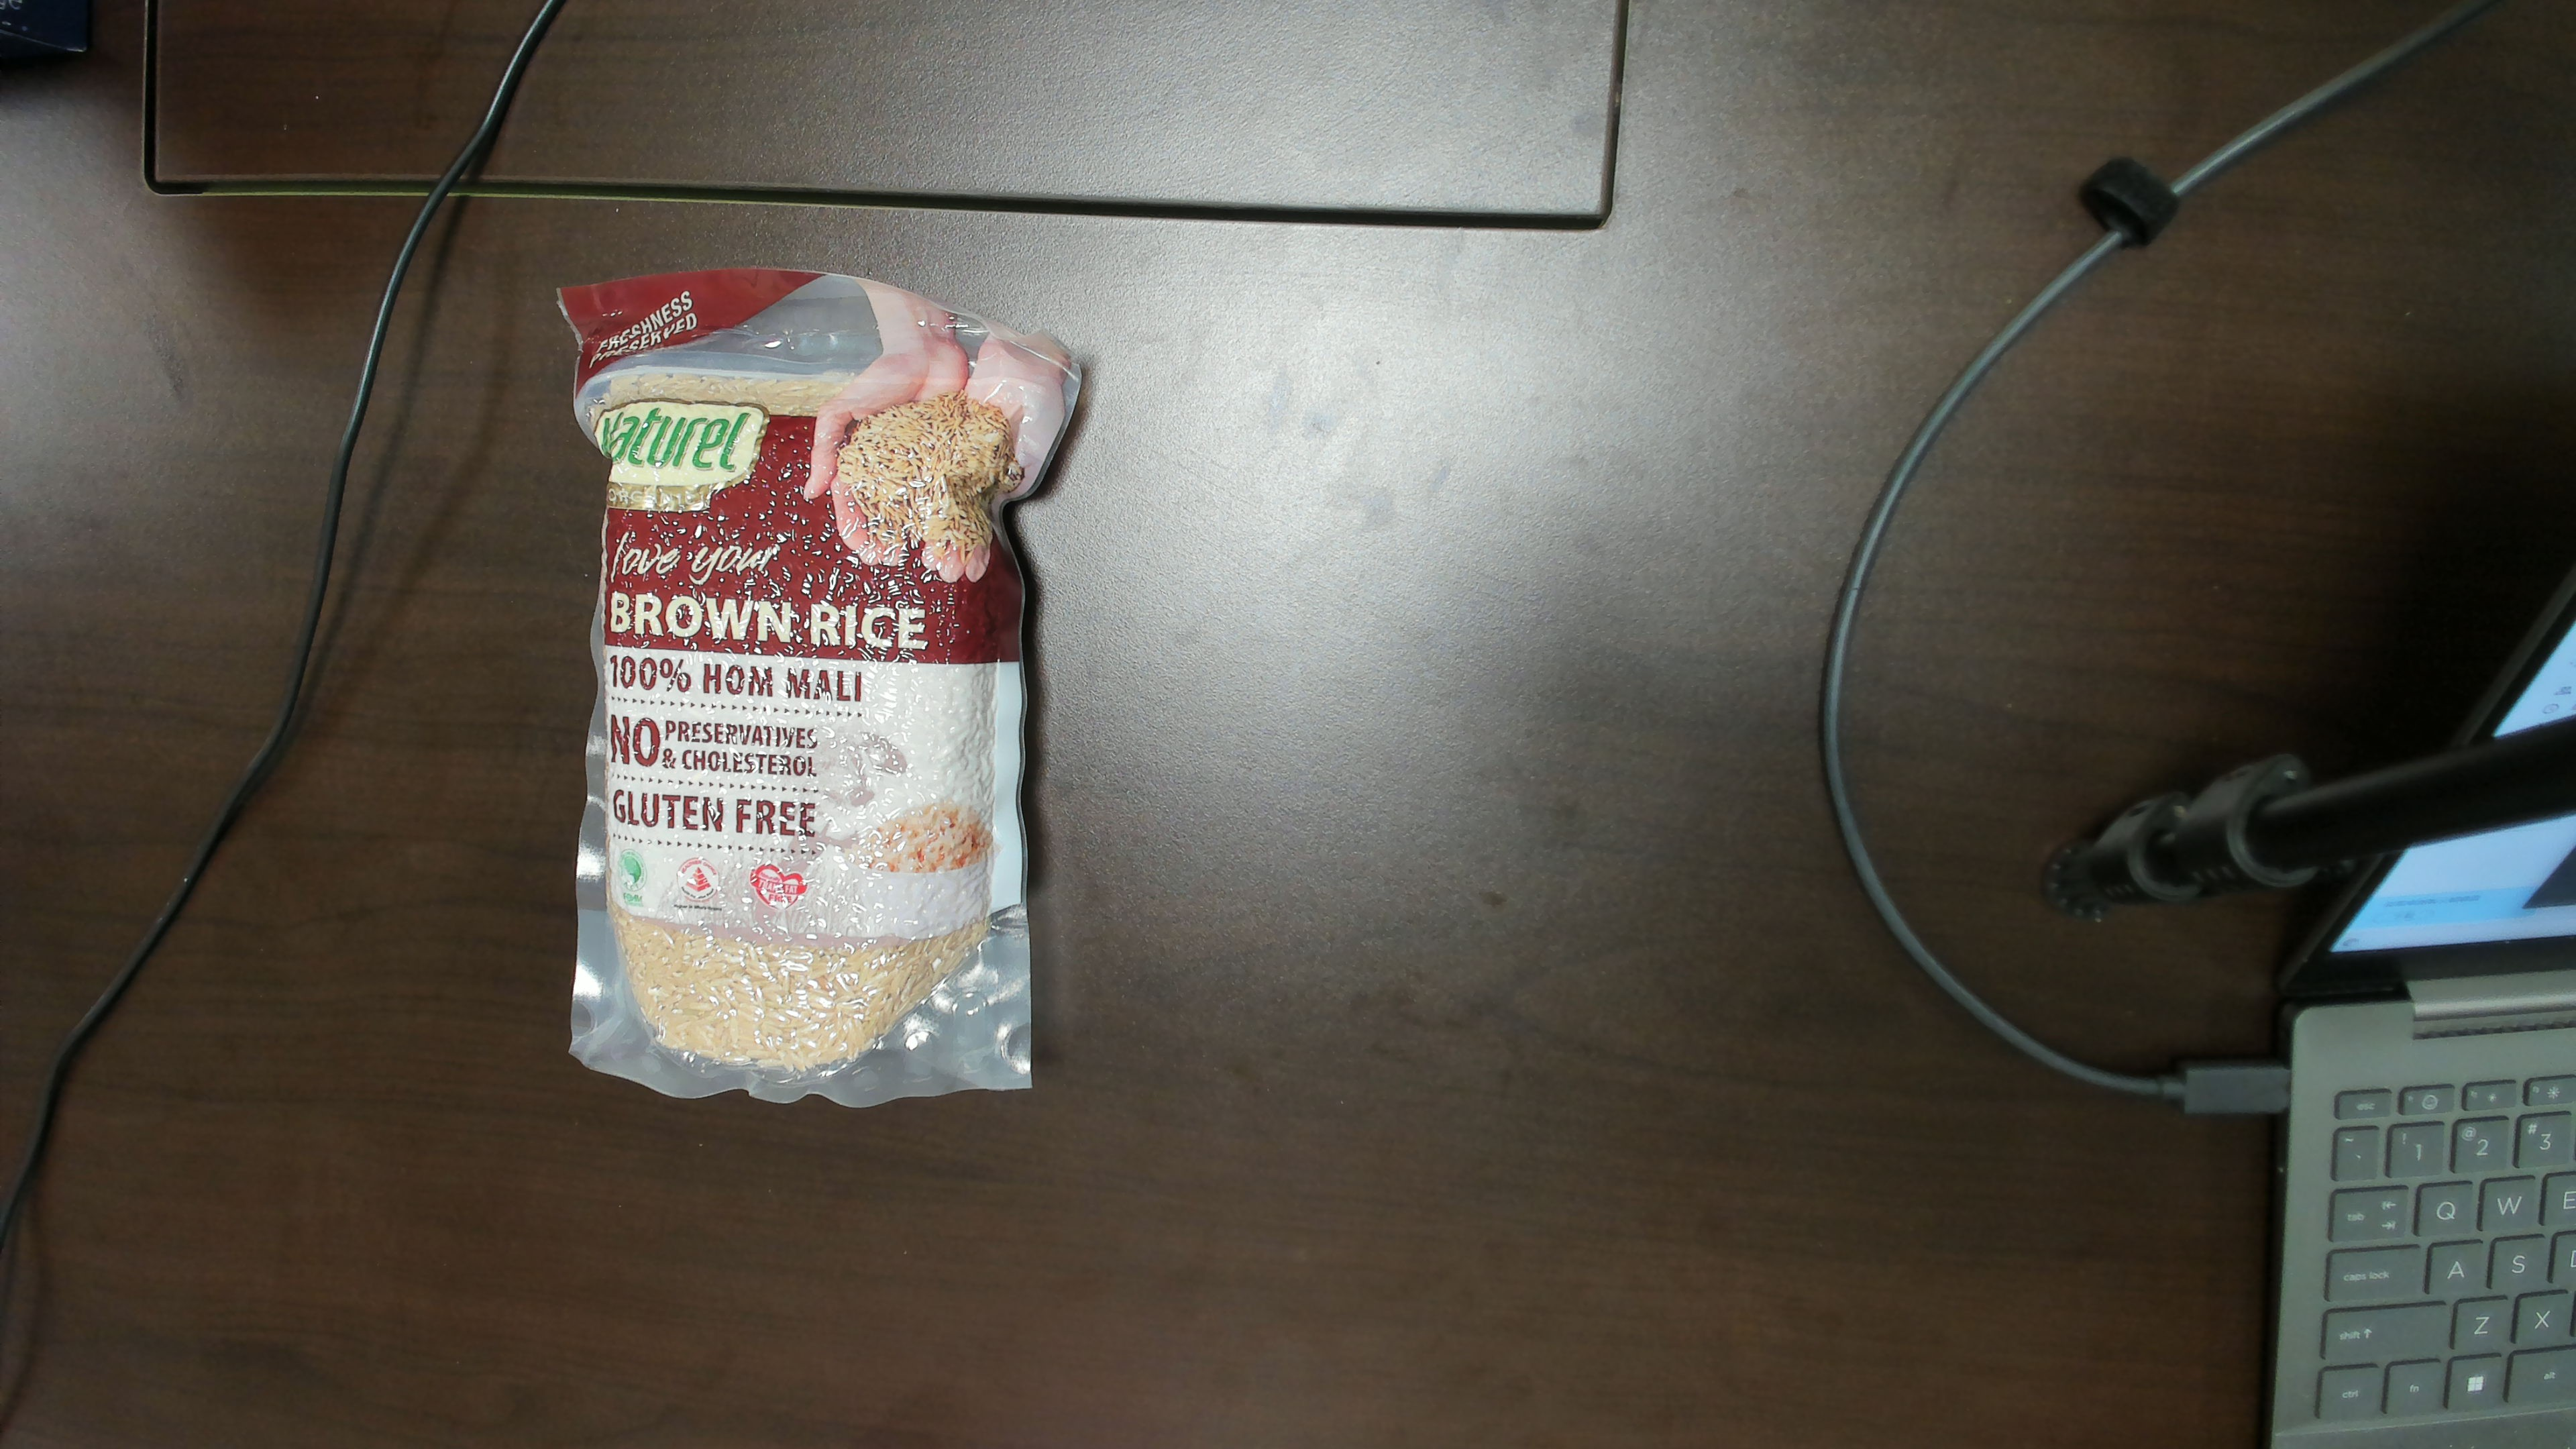Rice(brown-others)_700-799g_NonHalal_Healthy: (591, 292, 1010, 1085)
